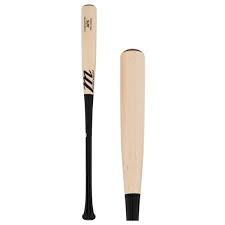baseball bat: (119, 47, 146, 222), (77, 2, 98, 221)
